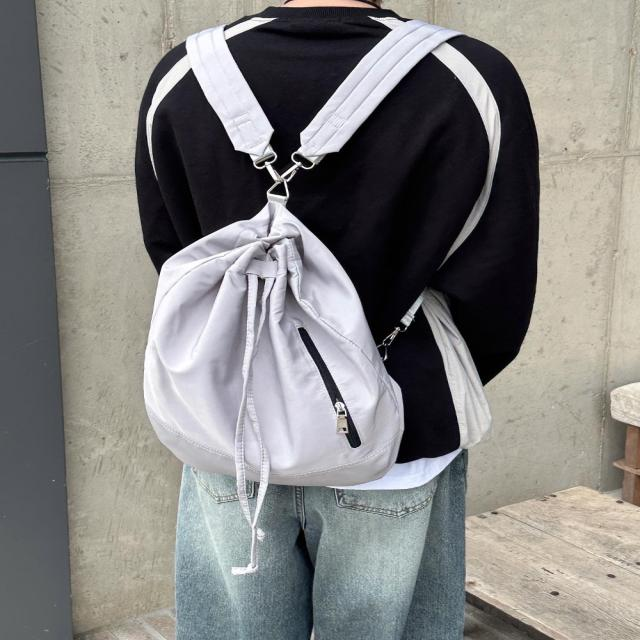backpack: (135, 175, 419, 512)
